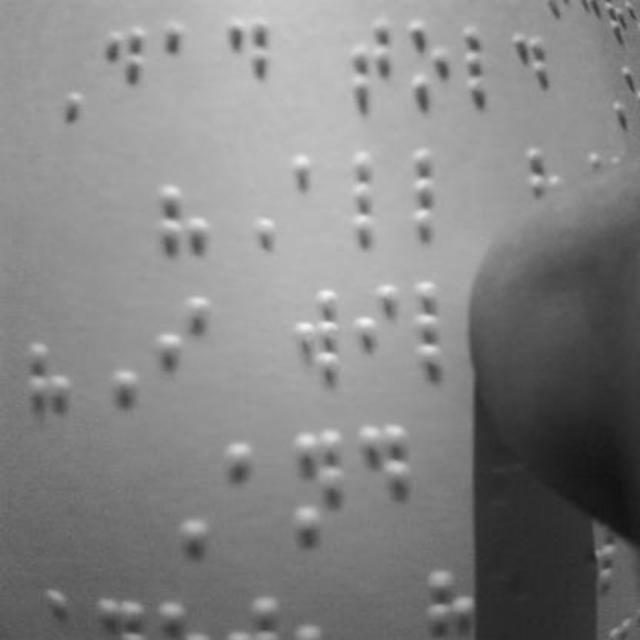braiile: (290, 422, 350, 550), (286, 288, 344, 402), (156, 292, 212, 408), (358, 420, 414, 536), (412, 276, 472, 380), (224, 438, 280, 548), (408, 144, 469, 240), (220, 12, 276, 112), (95, 18, 148, 122), (352, 282, 404, 388), (345, 12, 397, 112), (288, 148, 342, 242), (156, 18, 208, 114), (348, 146, 400, 242), (406, 10, 452, 110), (512, 22, 558, 116), (462, 18, 508, 106)
